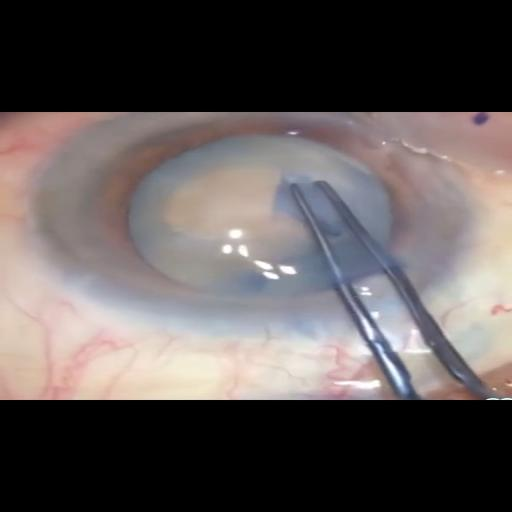catarata: (118, 138, 386, 301)
cornea: (30, 111, 480, 331)
pupil: (92, 115, 423, 316)
